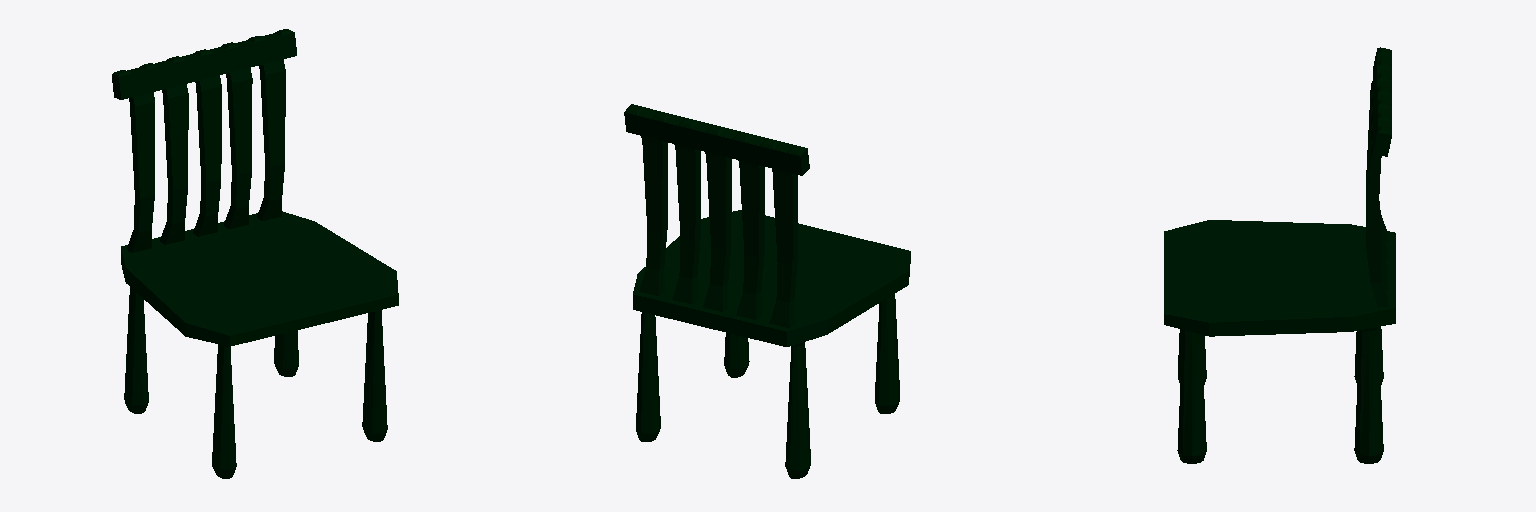
File: TextureChair.obj
3 renders of one model, left to right at view 1: azimuth 30°, elevation 25°; view 2: azimuth 150°, elevation 25°; view 3: azimuth 270°, elevation 25°, orthographic.
Visible parts, largest first — view 1: ChairSeat, ChairSeat Back1 Back5 Back2 Back3 Back4, Leg1 ChairSeat Leg Leg3 Leg2, ChairSeat ChairTop; view 2: ChairSeat Back1 Back5 Back2 Back3 Back4, ChairSeat, Leg1 ChairSeat Leg Leg3 Leg2, ChairSeat ChairTop; view 3: ChairSeat, Leg1 ChairSeat Leg Leg3 Leg2, ChairSeat Back1 Back5 Back2 Back3 Back4, ChairSeat ChairTop.
Part boxes in pixels (left/top/right/bottom): ChairSeat: left=121, top=211, right=398, bottom=346; ChairSeat Back1 Back5 Back2 Back3 Back4: left=127, top=59, right=285, bottom=252; Leg1 ChairSeat Leg Leg3 Leg2: left=124, top=287, right=387, bottom=478; ChairSeat ChairTop: left=112, top=29, right=296, bottom=99; ChairSeat Back1 Back5 Back2 Back3 Back4: left=639, top=136, right=797, bottom=327; ChairSeat: left=633, top=210, right=910, bottom=346; Leg1 ChairSeat Leg Leg3 Leg2: left=636, top=294, right=899, bottom=478; ChairSeat ChairTop: left=624, top=104, right=809, bottom=175; ChairSeat: left=1164, top=220, right=1395, bottom=336; Leg1 ChairSeat Leg Leg3 Leg2: left=1177, top=327, right=1383, bottom=463; ChairSeat Back1 Back5 Back2 Back3 Back4: left=1366, top=81, right=1387, bottom=306; ChairSeat ChairTop: left=1373, top=47, right=1391, bottom=156.
Size of the model in its own units: 8.27 by 12.57 by 7.89.